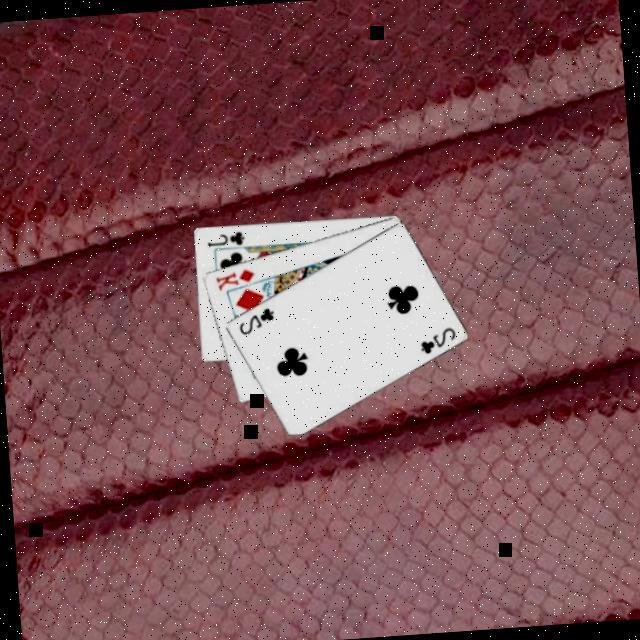2C: (233, 305, 277, 340), (415, 325, 459, 359)
JC: (202, 229, 245, 252)
KD: (211, 266, 257, 295)
